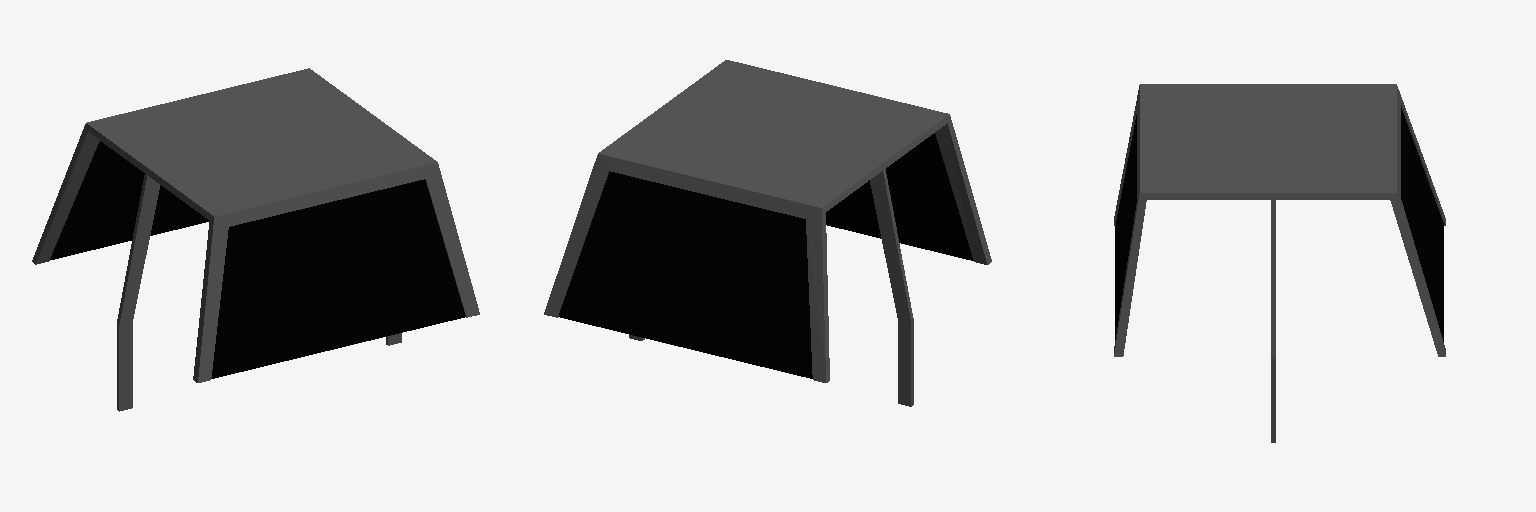
Rendered from Roof.obj.
3 renders of one model, left to right at view 1: azimuth 30°, elevation 25°; view 2: azimuth 150°, elevation 25°; view 3: azimuth 270°, elevation 25°, orthographic.
Visible parts, largest first — view 1: Roof1, Glass1, Glass2; view 2: Roof1, Glass2, Glass1; view 3: Roof1, Glass2, Glass1.
Boxes of the visible parts, <box> form: Roof1: <box>32,68,479,411</box>; Glass1: <box>211,179,465,378</box>; Glass2: <box>49,141,208,260</box>; Roof1: <box>544,60,991,406</box>; Glass2: <box>558,171,812,378</box>; Glass1: <box>826,133,973,260</box>; Roof1: <box>1114,84,1445,442</box>; Glass2: <box>1401,108,1443,341</box>; Glass1: <box>1115,115,1136,339</box>.
Size of the model in its own units: 6.13 by 4.89 by 6.25.